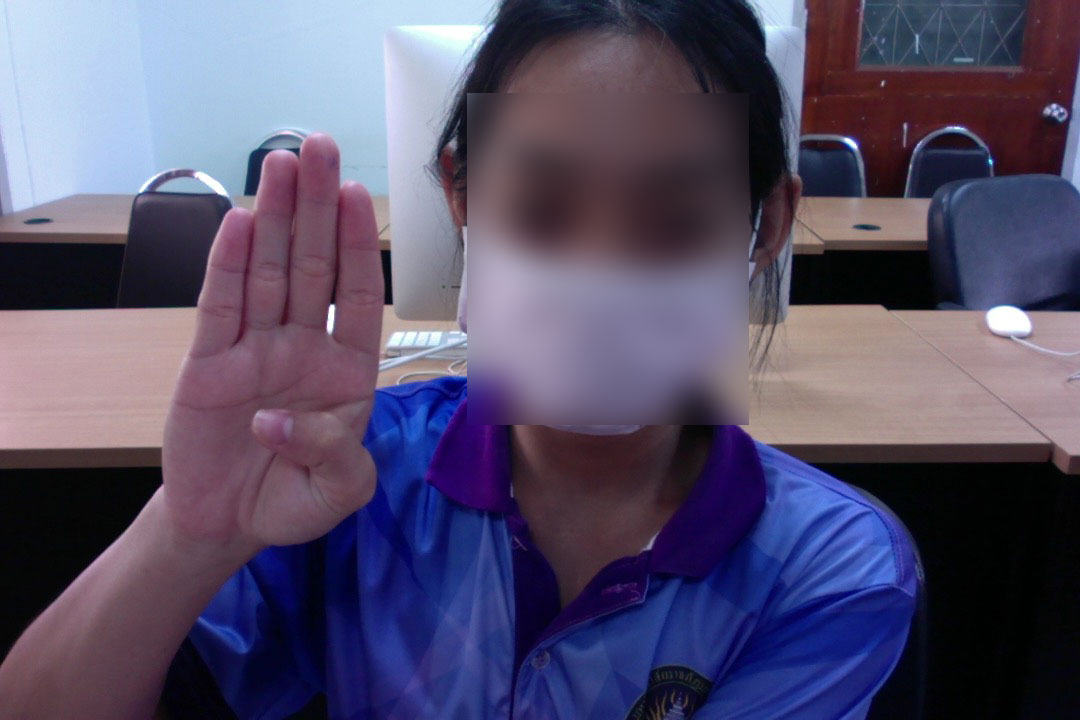bor: (153, 128, 392, 573)
